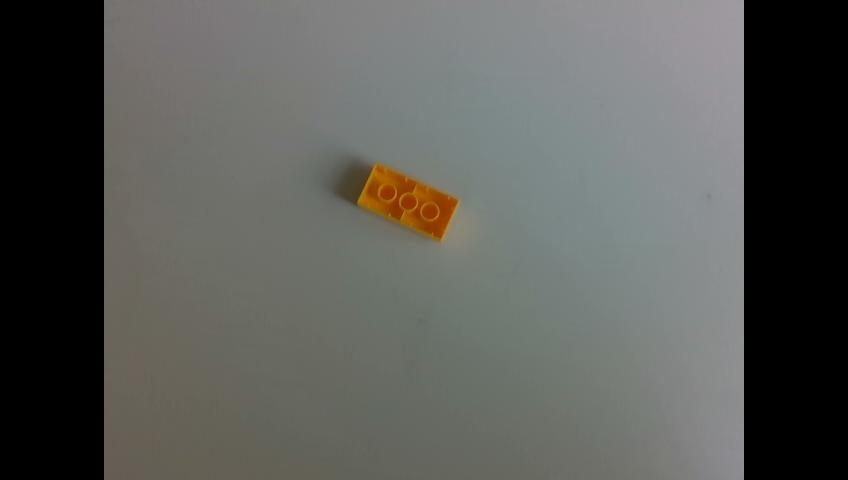4x2_yellow: (360, 165, 460, 240)
